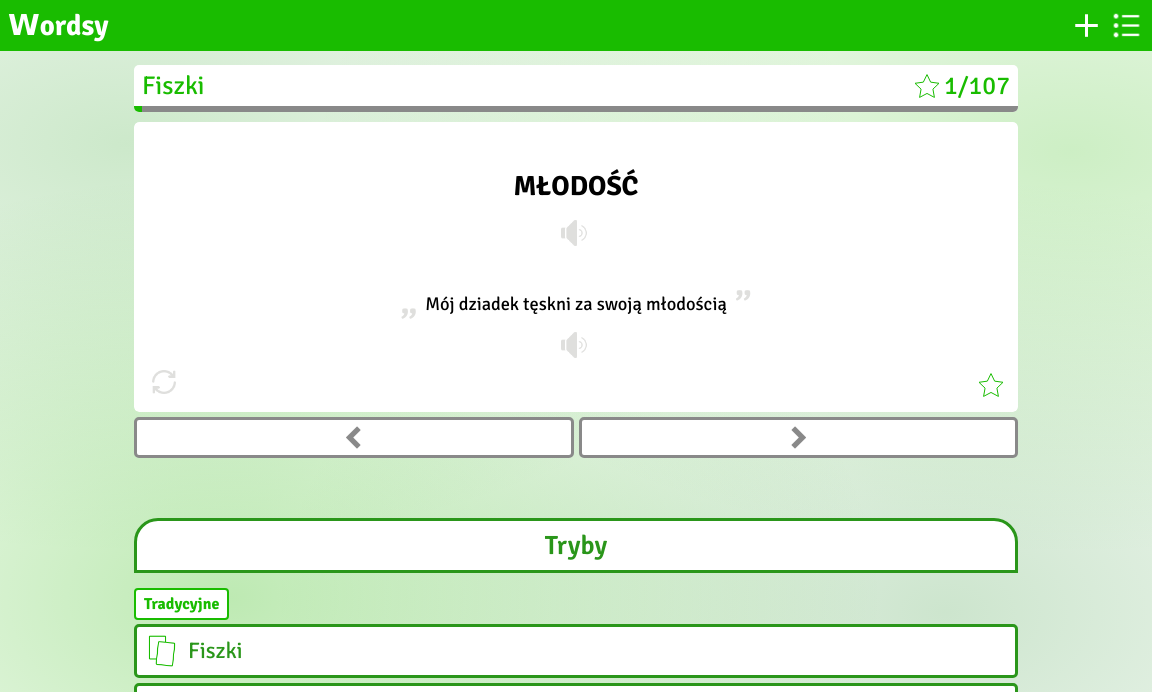
Test case: block mode testing › should correct counting
Click the button with class "next". click: (799, 438)
box: [579,417,1019,458]
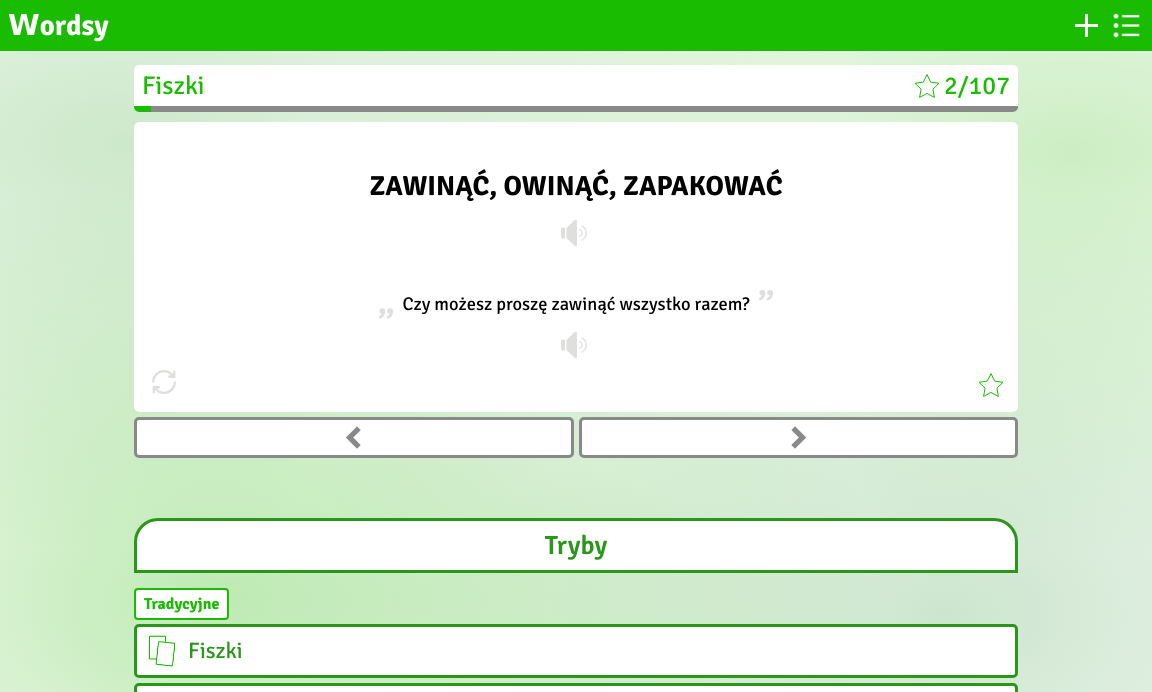
Click the button with class "next". click: (799, 438)
box: [579,417,1019,458]
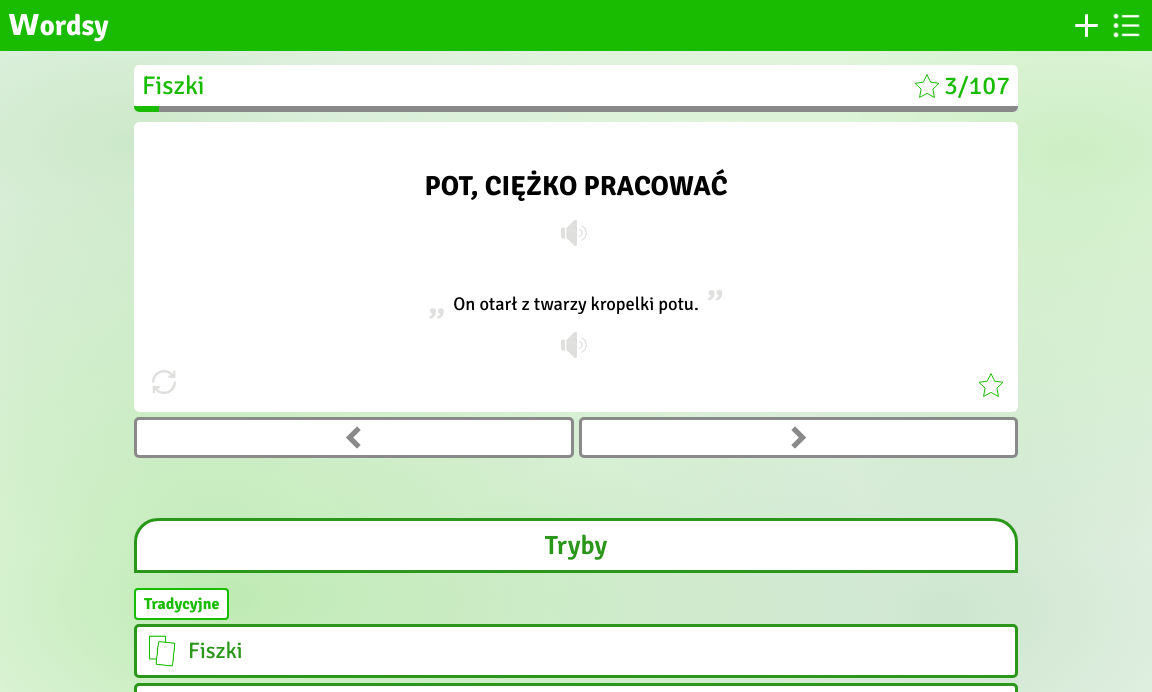
Click the button with class "next". click: (799, 438)
box: [579,417,1019,458]
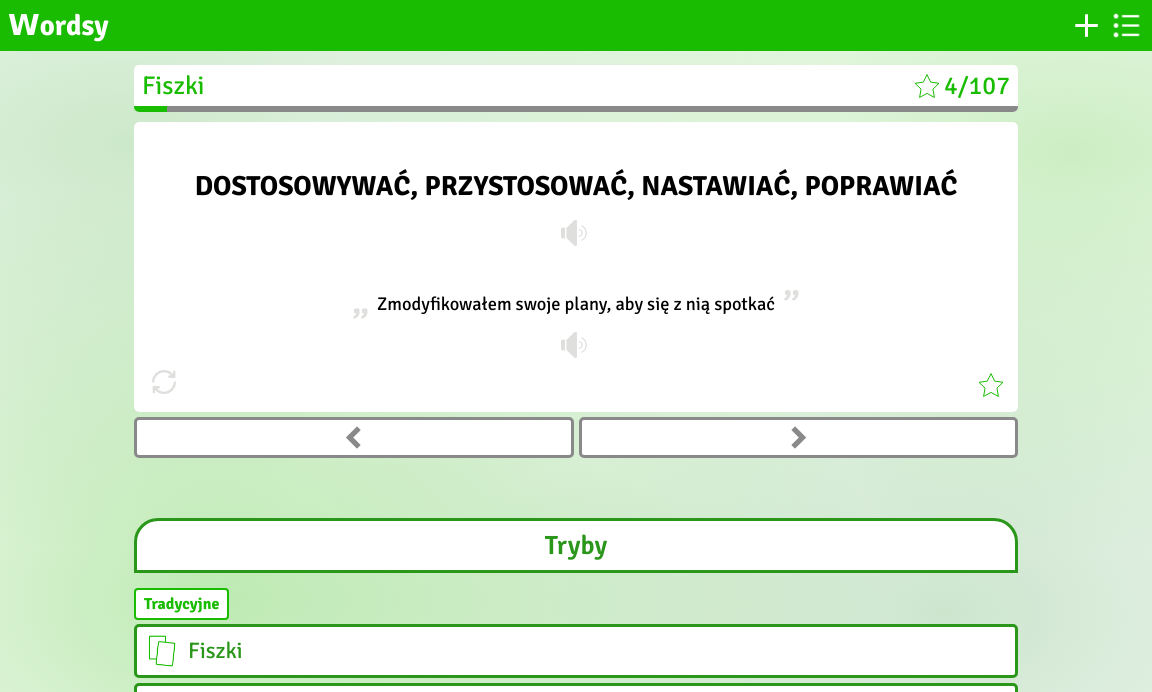
Click the 1st button. click: (354, 438)
box: [134,417,574,458]
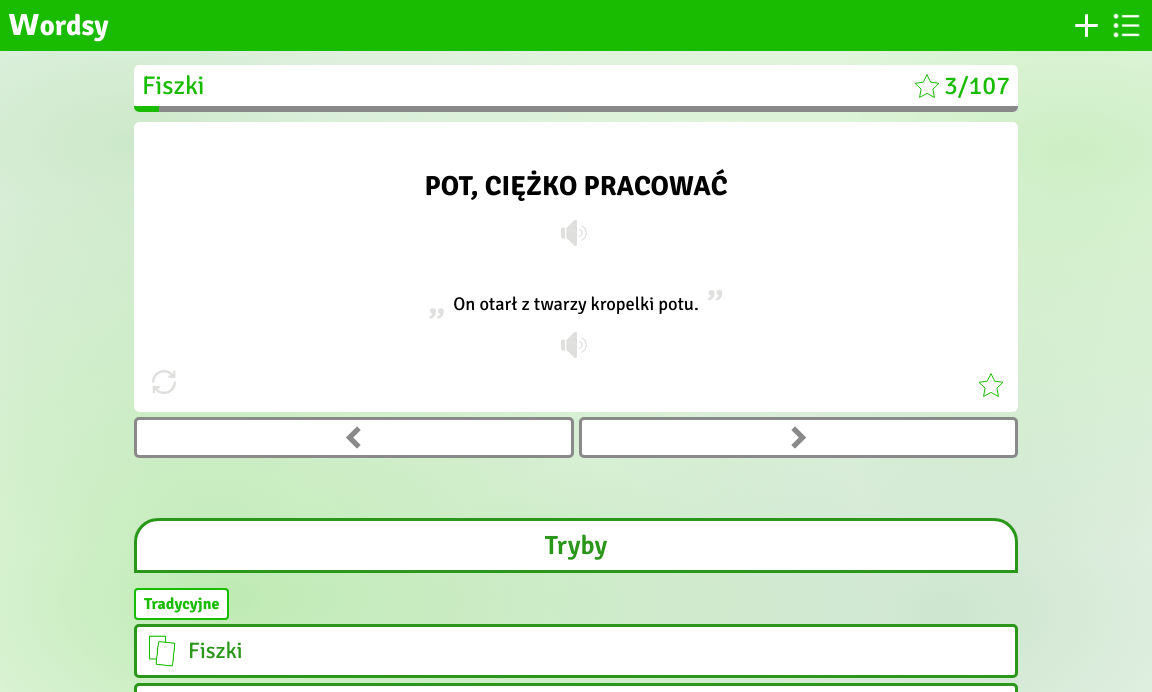
Expected: the text "3/107" is shown, [944,70,1010,101]
